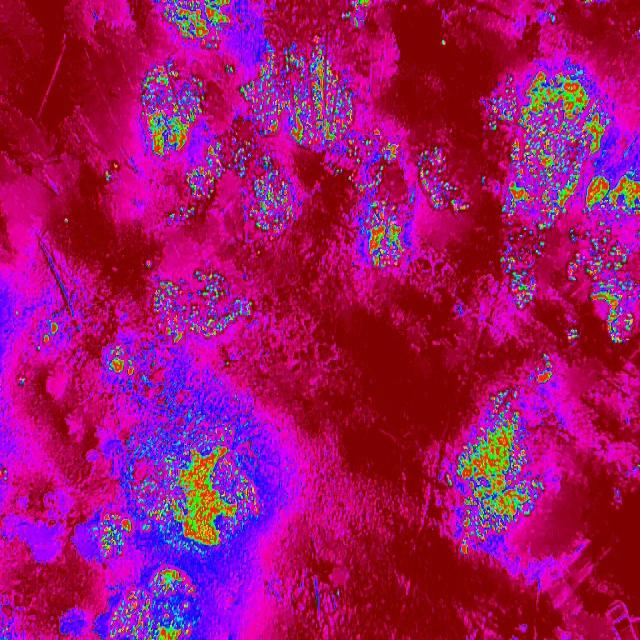fire: (126, 386, 270, 560), (489, 60, 615, 225), (442, 388, 546, 558), (248, 43, 354, 151), (565, 225, 640, 345), (155, 265, 258, 346), (105, 565, 199, 640), (142, 62, 203, 156), (500, 225, 547, 309), (418, 144, 472, 215), (250, 153, 296, 235), (160, 0, 234, 49), (358, 201, 412, 268), (353, 125, 399, 197), (102, 344, 161, 386), (614, 135, 640, 220), (206, 133, 248, 178), (89, 509, 127, 558), (186, 165, 216, 205), (527, 354, 555, 388), (343, 0, 371, 28), (41, 320, 60, 344), (168, 208, 198, 222), (1, 617, 15, 640), (15, 374, 30, 390), (543, 8, 558, 23), (240, 84, 250, 104), (332, 587, 342, 601), (103, 172, 114, 184), (224, 63, 237, 73), (144, 259, 152, 273), (438, 38, 449, 48), (111, 160, 122, 170), (61, 216, 70, 227), (580, 0, 599, 5), (223, 359, 232, 369), (3, 467, 8, 484), (480, 176, 487, 185), (14, 308, 20, 318), (36, 346, 44, 353), (638, 462, 640, 471)
